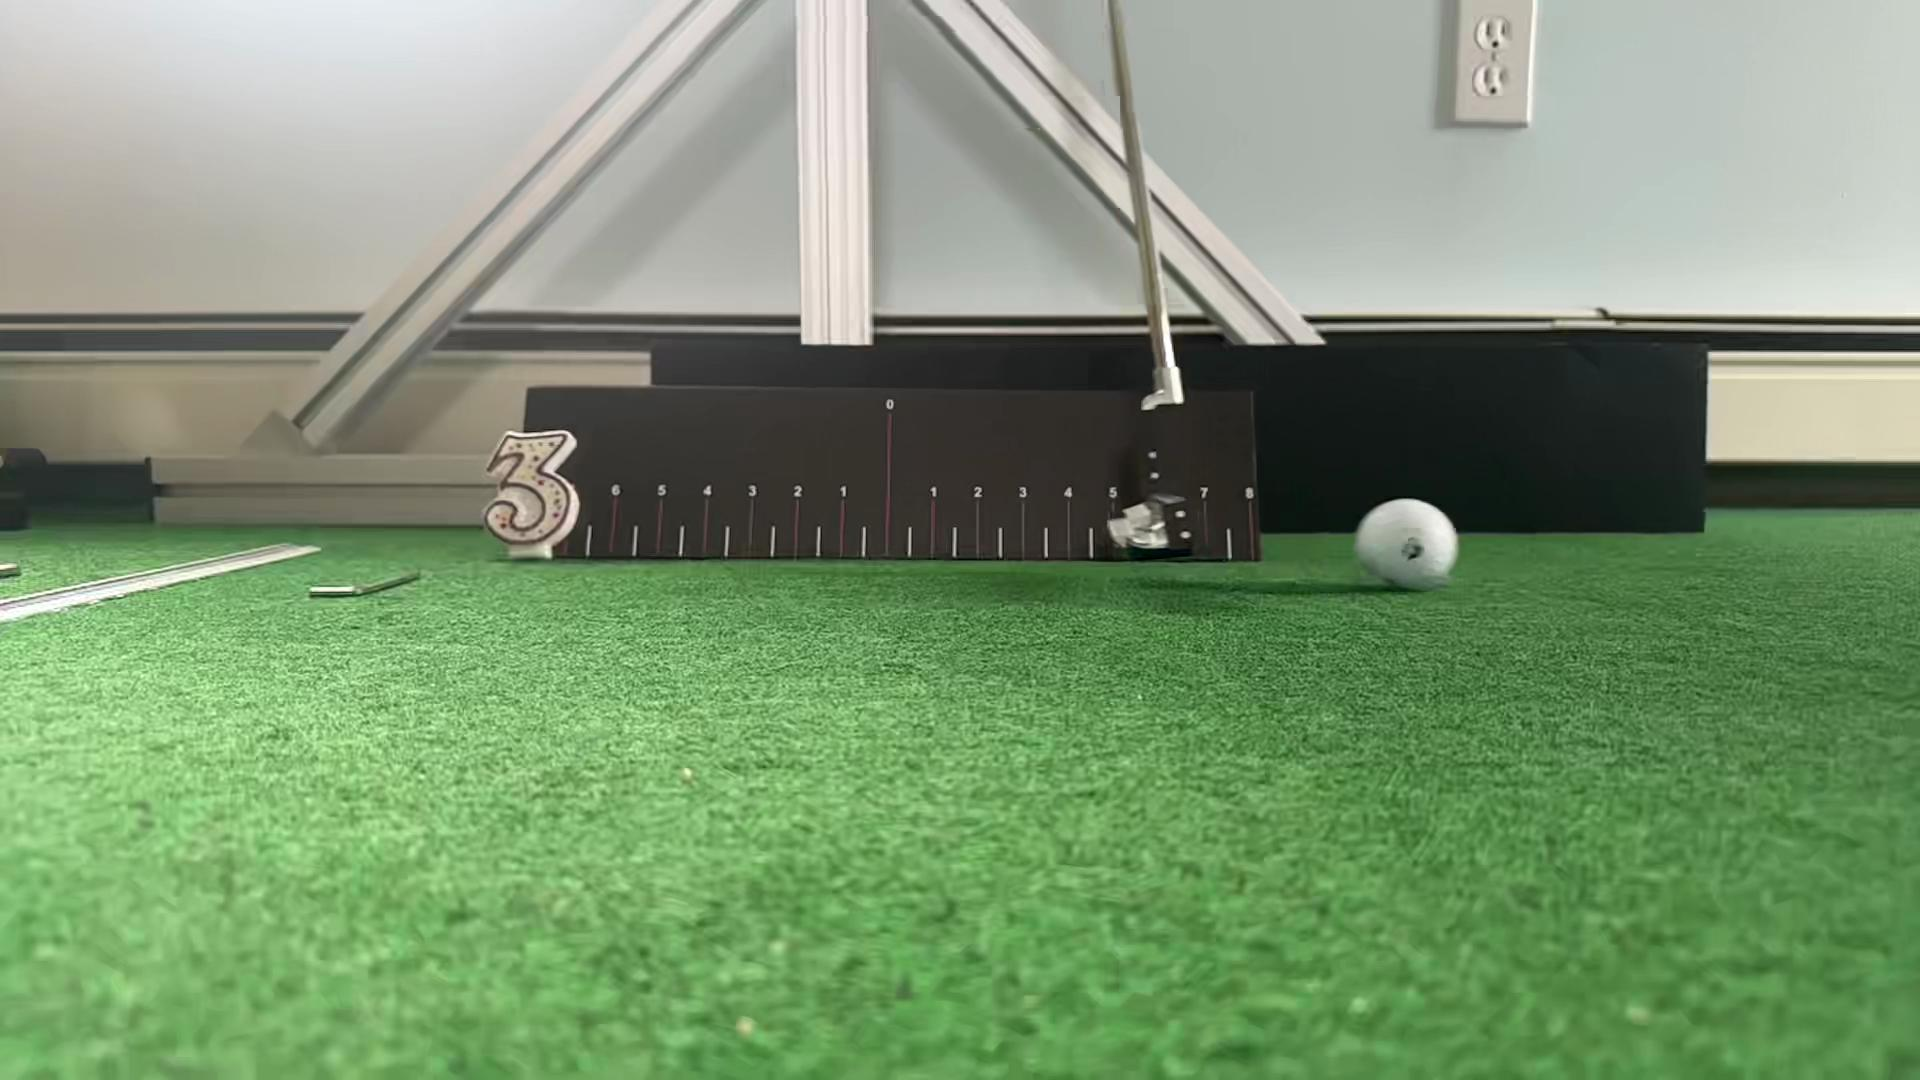golfball: (1357, 499, 1456, 589)
